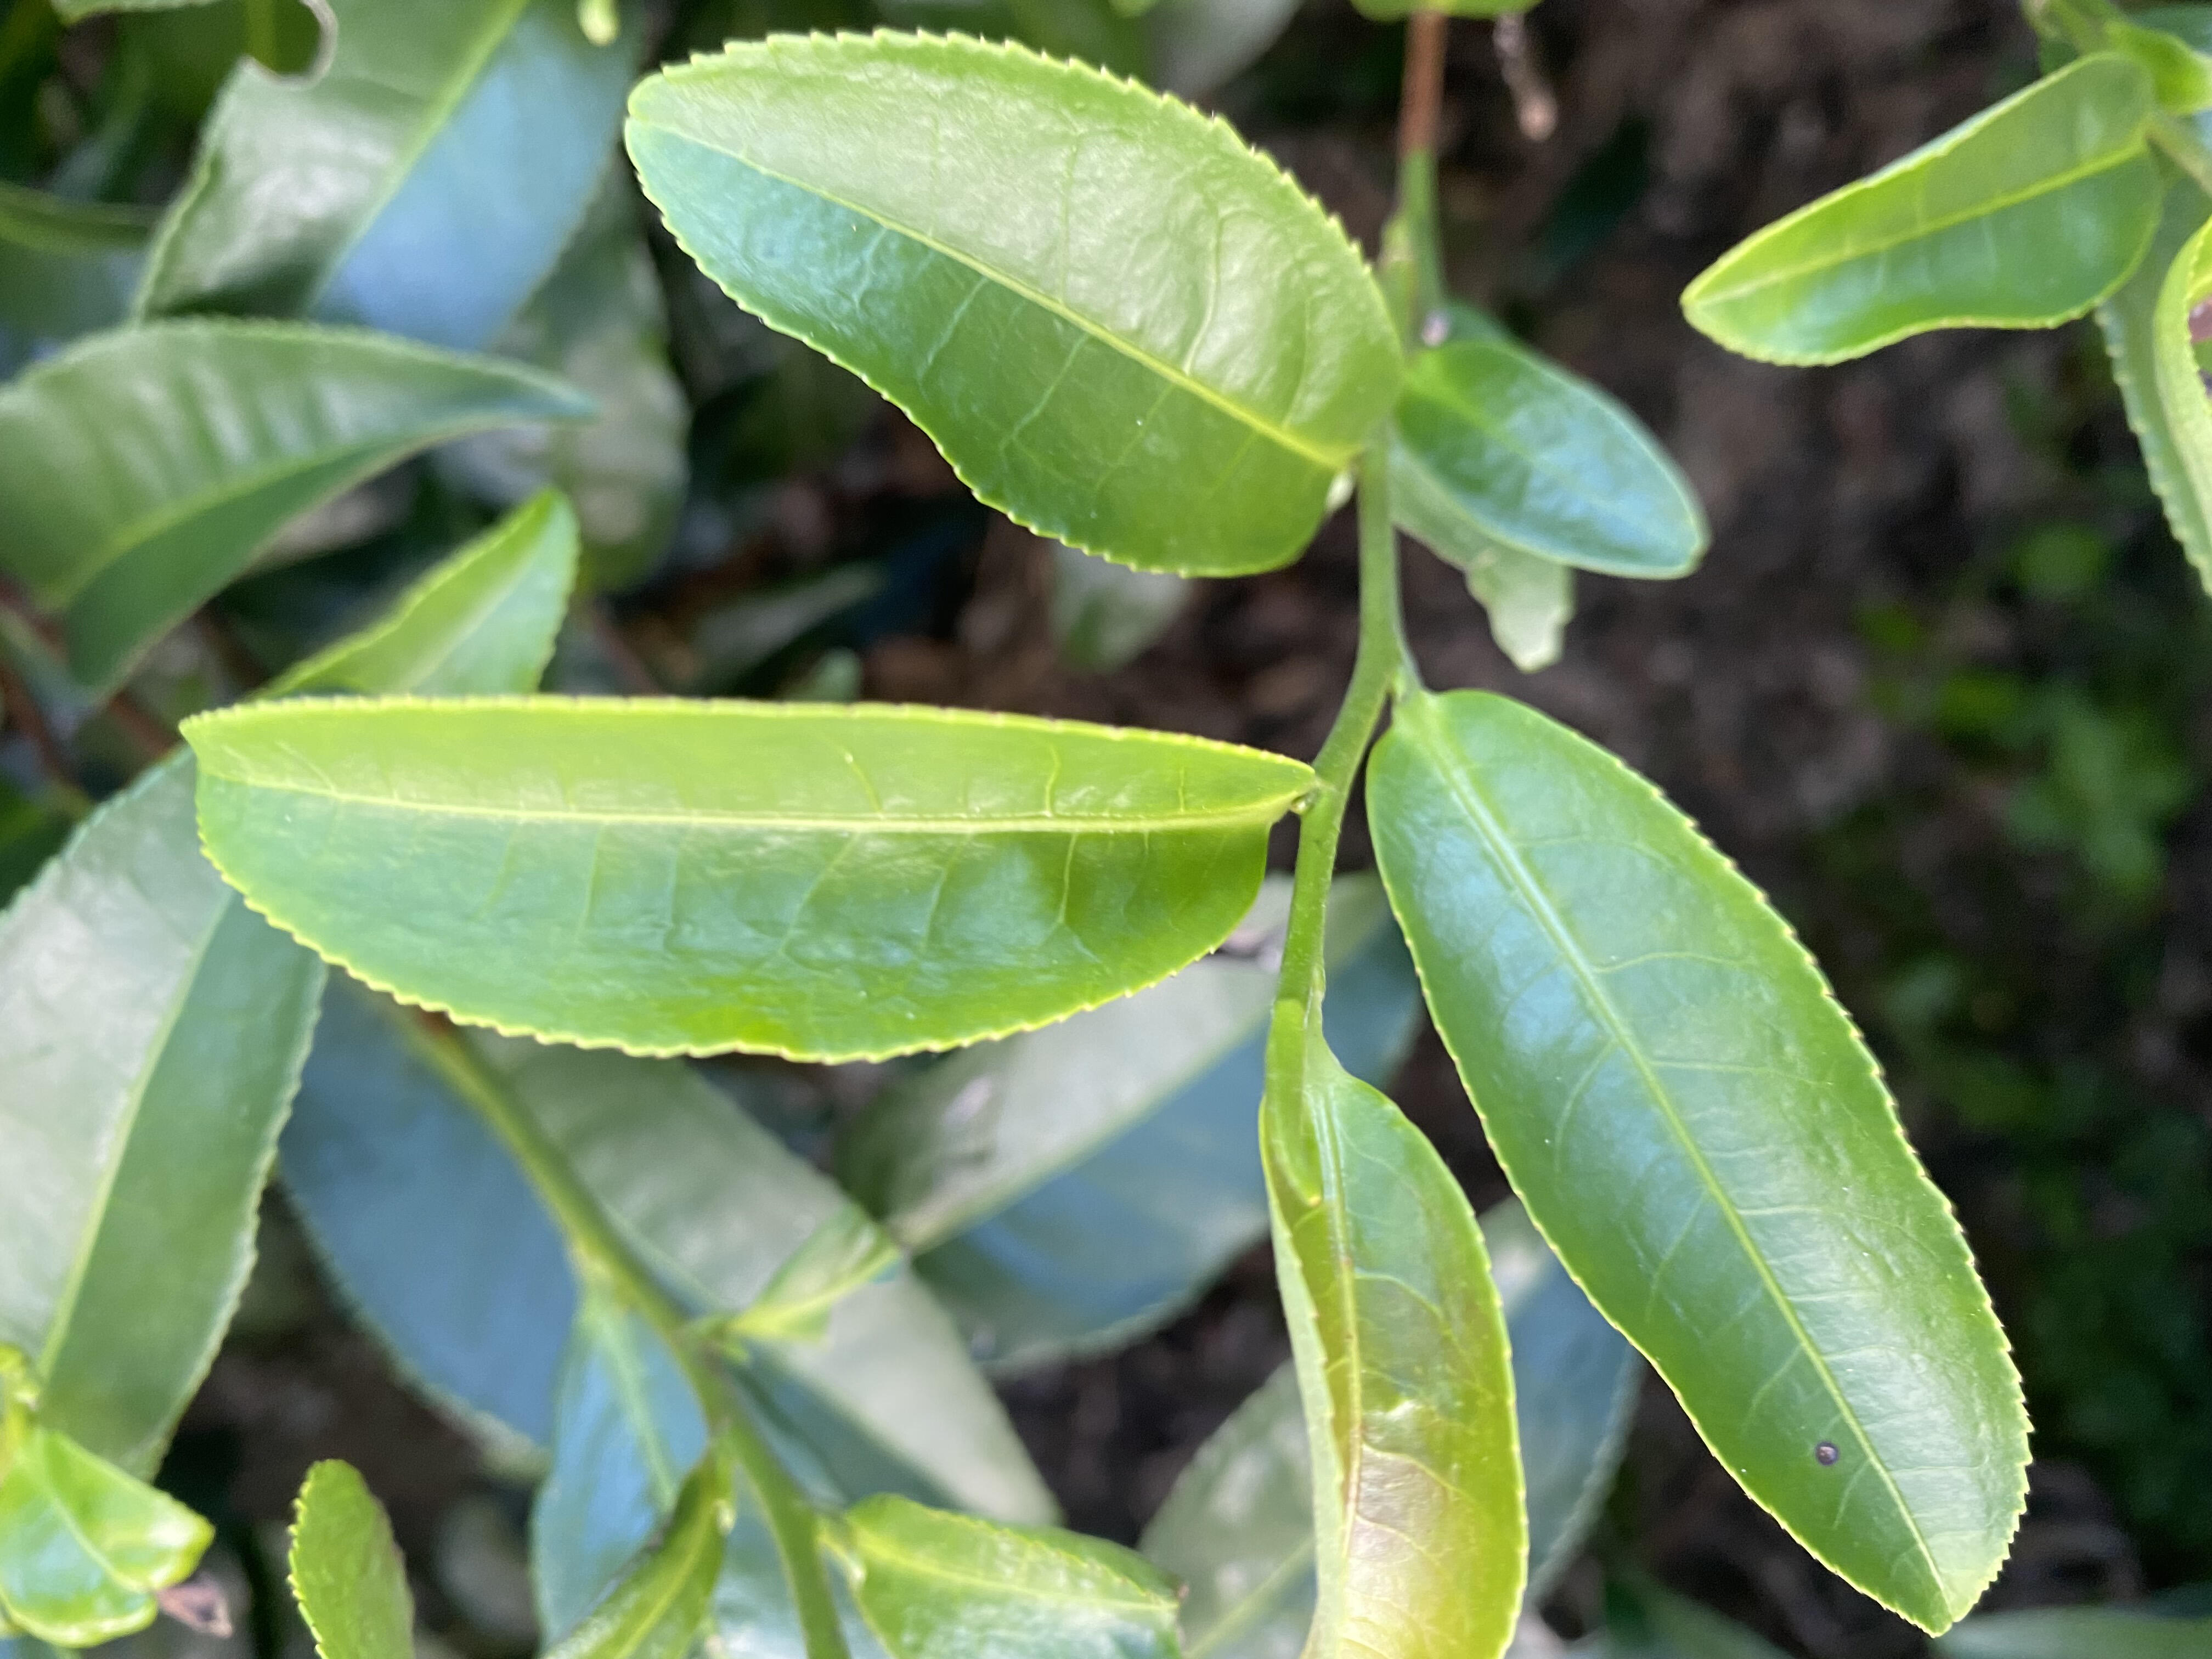healthy: (618, 26, 1406, 582), (174, 692, 1320, 1070), (1683, 51, 2167, 366)
tanju_low: (1364, 687, 2036, 1638), (1256, 1049, 1527, 1654)
